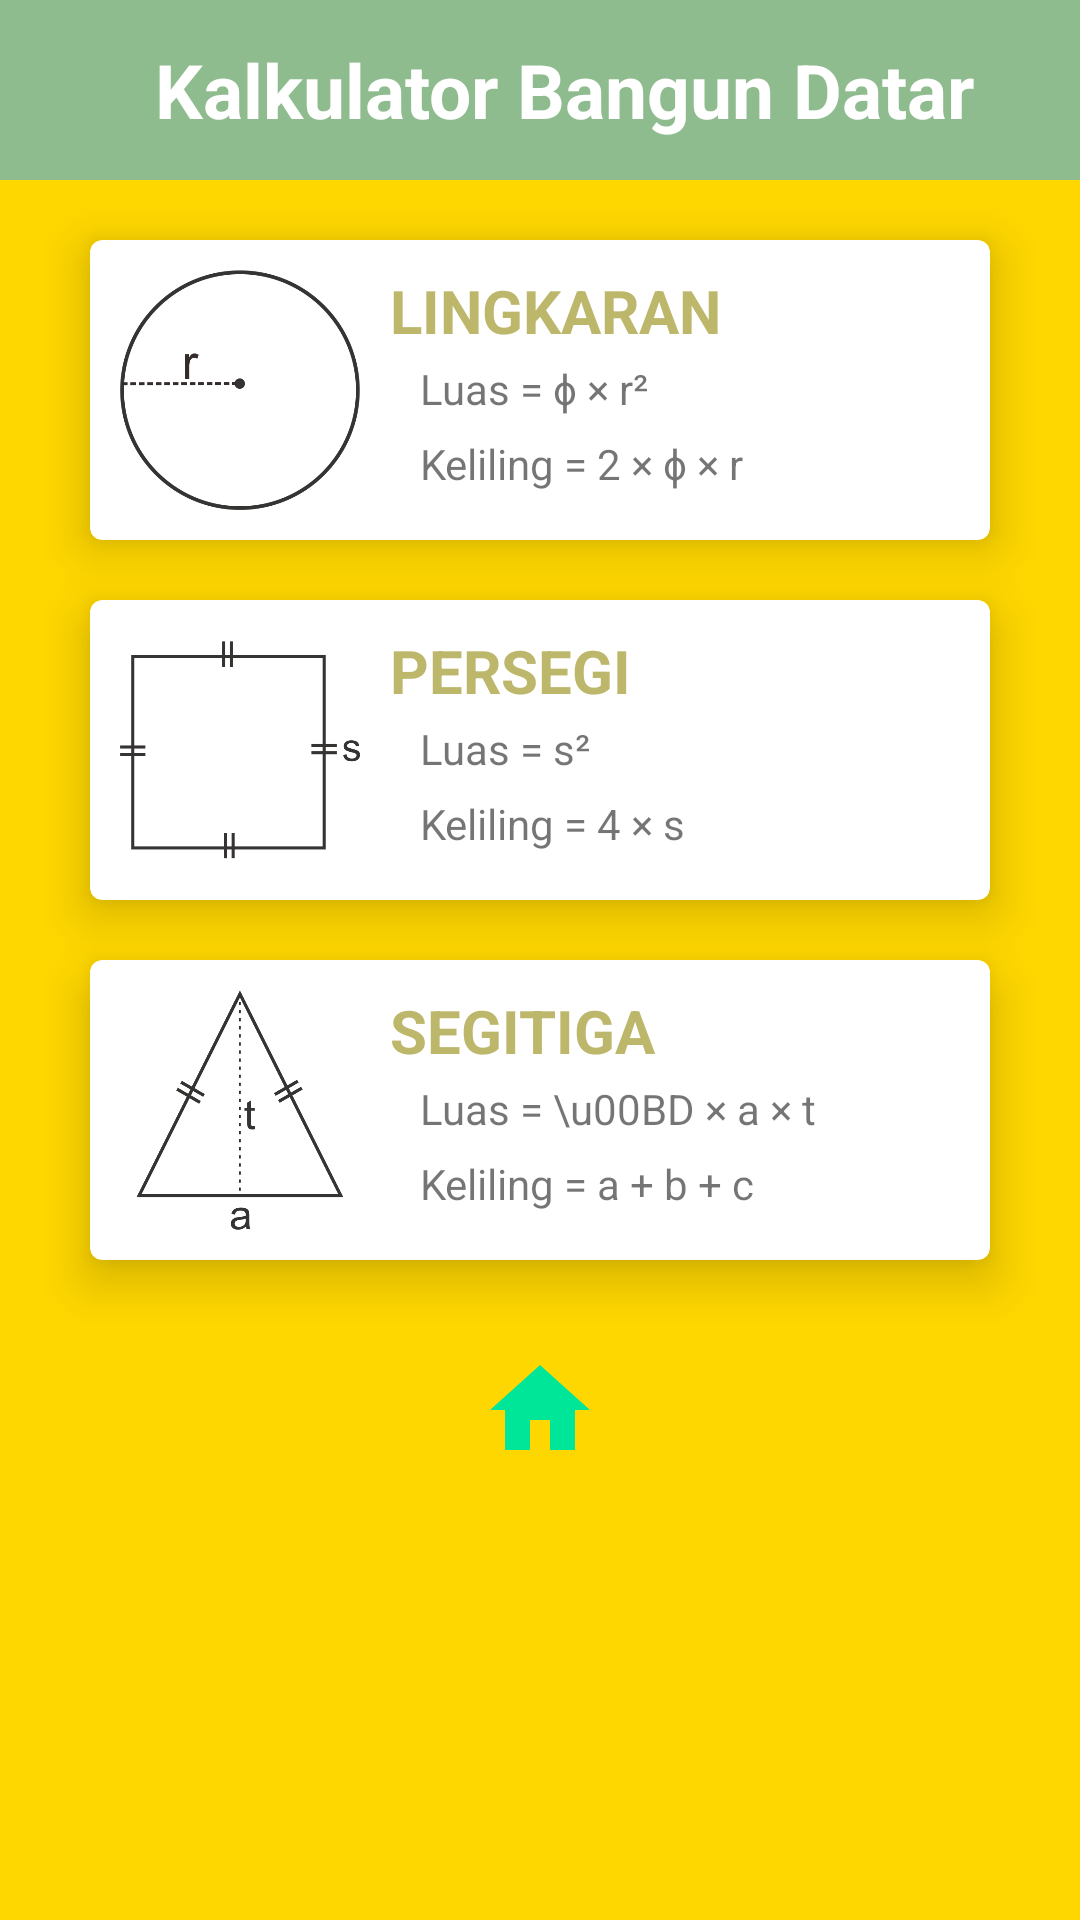

Named icons in this screenshot (1080*1920) and their bounding boxes, Rect(x1, y1, x2, y2):
home: Rect(490, 1365, 590, 1450)
